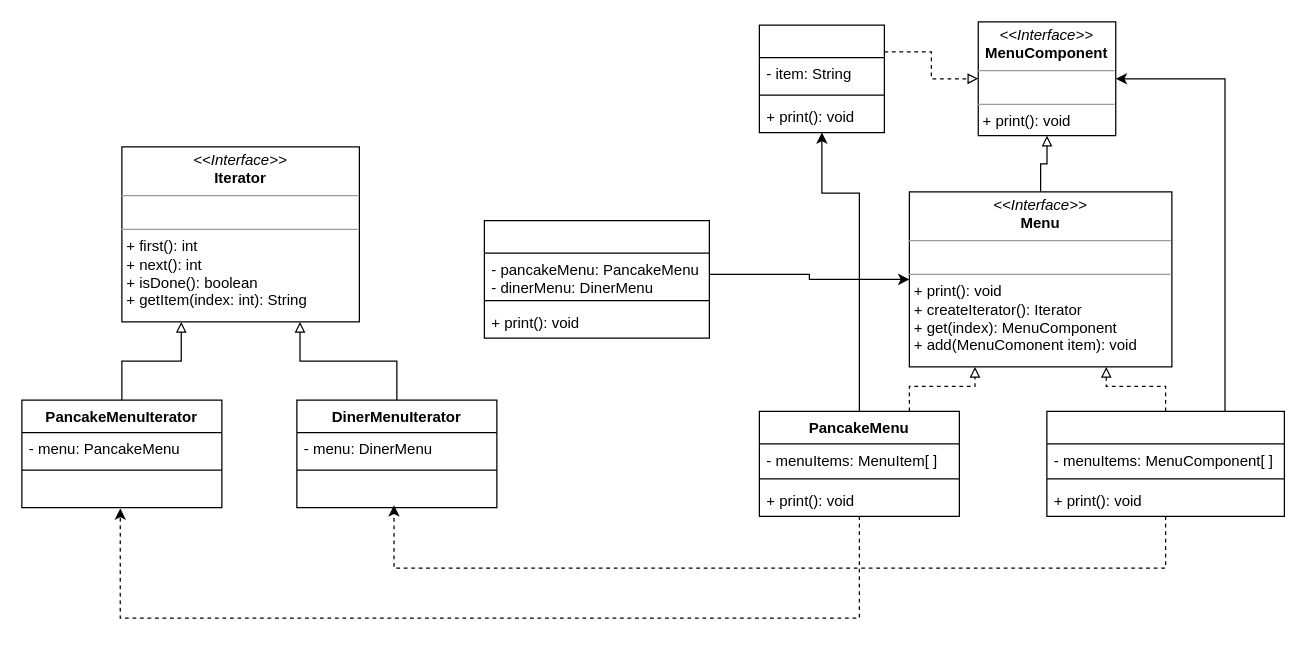
The diagram is 1306 pixels wide and 650 high, and some of its shapes have lost their labels. Each missing label, with the box of its shape:
DinerMenu: (1046, 410, 1284, 516)
MenuItem: (758, 24, 884, 132)
Waitress: (483, 219, 709, 338)
